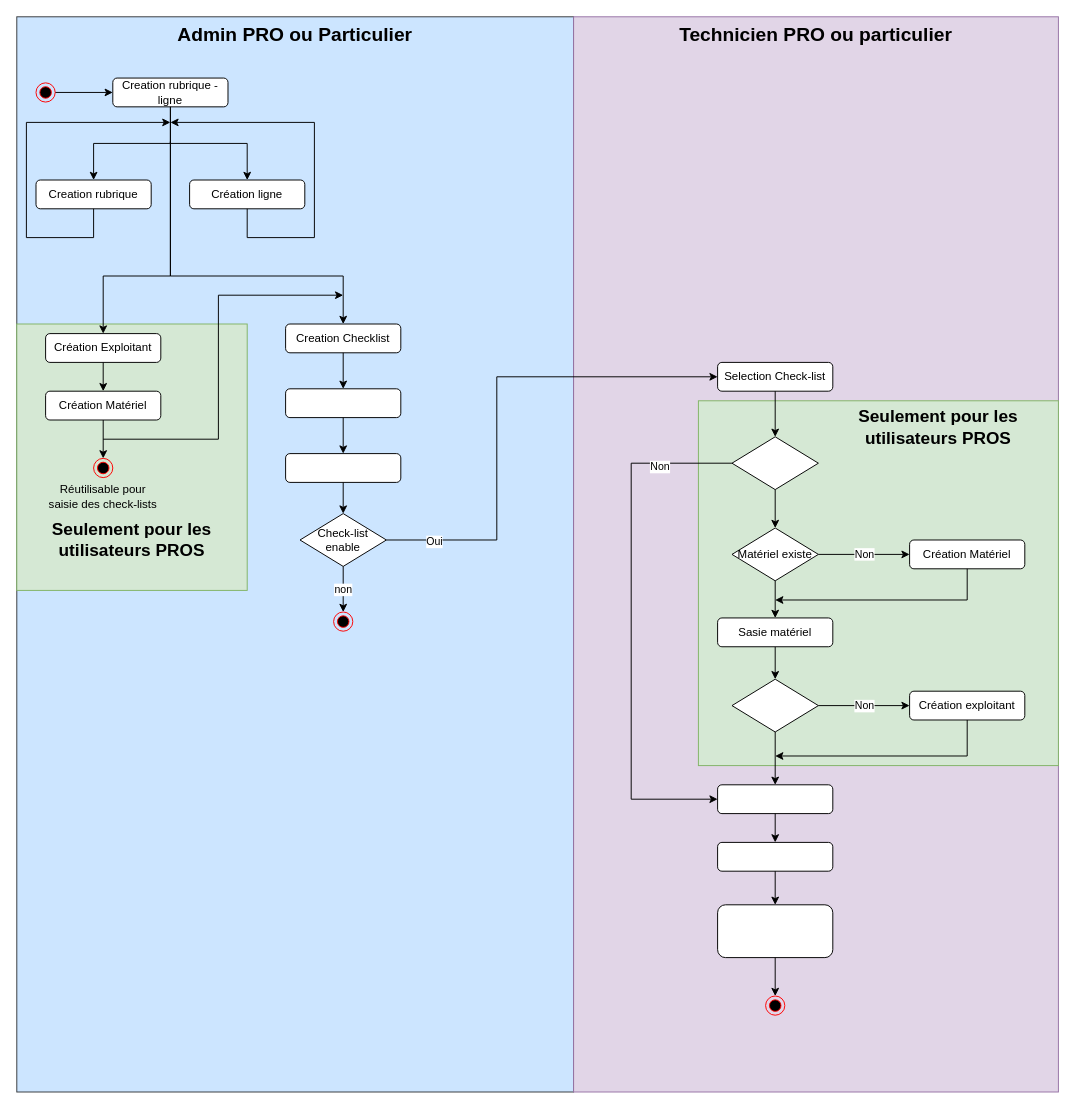
The diagram is 1075 pixels wide and 1109 high, and some of its shapes have lost their labels. The centre of each missing label's shape, as x and y in pixels:
Création clé/libellé: pixel 343 467
Envoi mail + génération PDF+ enregistrement: pixel 775 931
Exploitant existe: pixel 774 705
Organisation rubriques/lignes: pixel 343 403
Saisie Checklist: pixel 775 799
Saisie Fin Checklist: pixel 775 856
Utilisateur Pro: pixel 774 463
